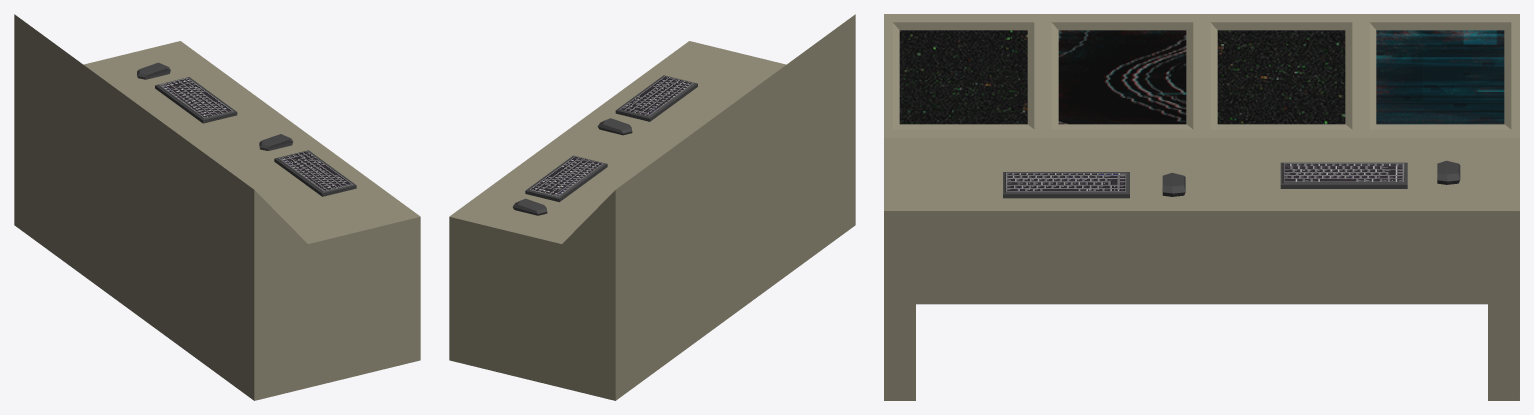
Rendered from MRIControlPanel.glb.
3 renders of one model, left to right at view 1: azimuth 30°, elevation 25°; view 2: azimuth 150°, elevation 25°; view 3: azimuth 270°, elevation 25°, orthographic. The views are drawn at different scales.
Parts seen in each view (by area): view 1: Desk, Cube.001, Keyboards+Mouses; view 2: Desk, Cube.001, Keyboards+Mouses; view 3: Desk, Cube.001, Keyboards+Mouses.
Boxes of the visible parts, x1,y1,x2,y2 form: Desk: (14, 41, 420, 400); Cube.001: (14, 14, 307, 257); Keyboards+Mouses: (137, 62, 356, 196); Desk: (449, 41, 855, 400); Cube.001: (562, 14, 855, 257); Keyboards+Mouses: (513, 75, 697, 215); Desk: (884, 138, 1519, 400); Cube.001: (884, 14, 1519, 137); Keyboards+Mouses: (1003, 160, 1460, 198).
Size of the model in its own units: 4 by 4.85 by 10.
Materials: 4 (4 with a texture image).
